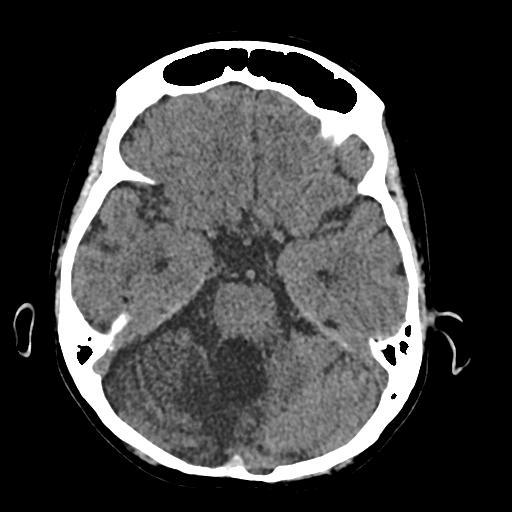Cancer: (201, 331, 289, 423)
